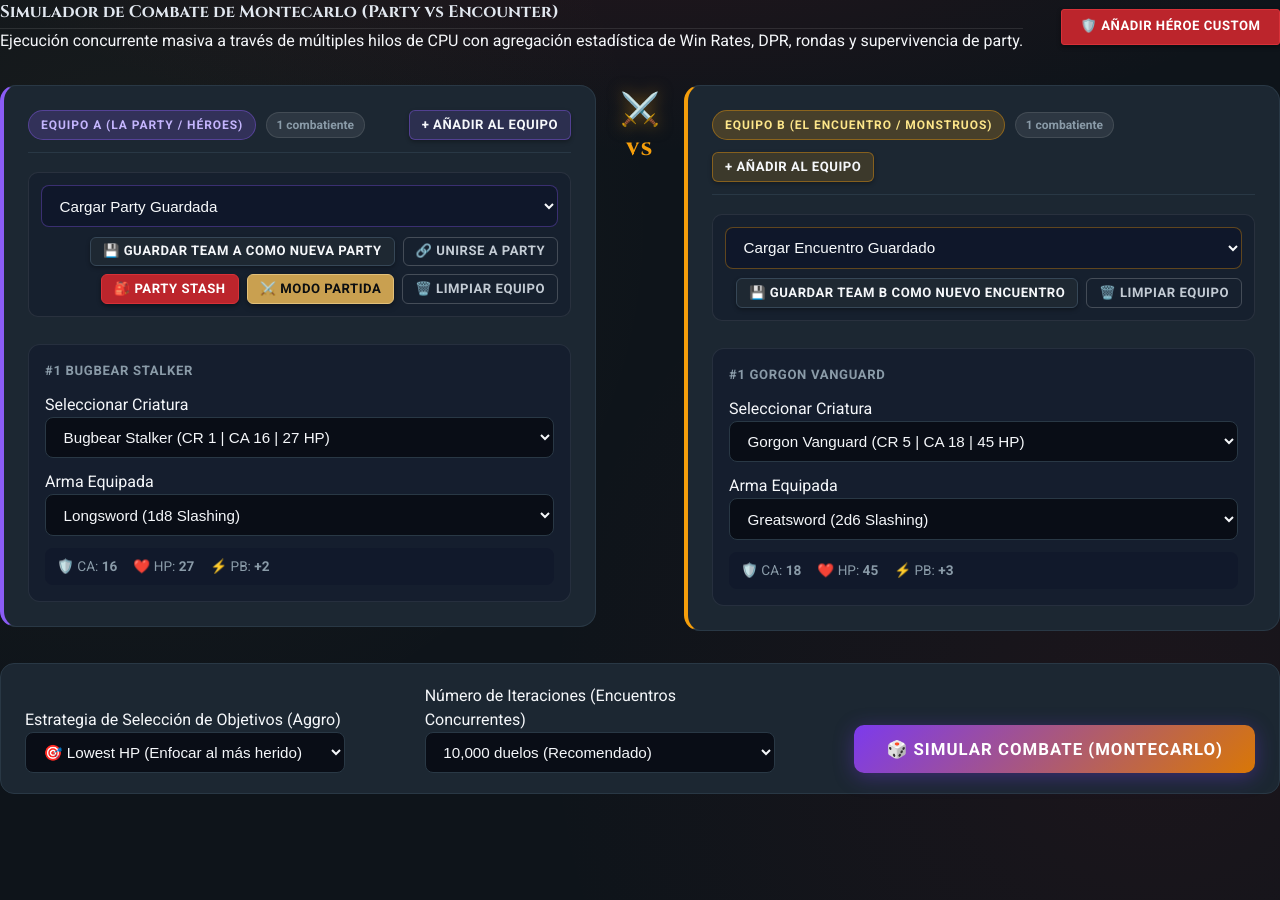
Test: CombatSimulatorView Component Suite (Party vs Encounter) › allows adding and removing members dynamically in teams
The image size is (1280, 900).
Click the button with id "add-member-a-btn" at point(490, 125), box [409,110,571,140]
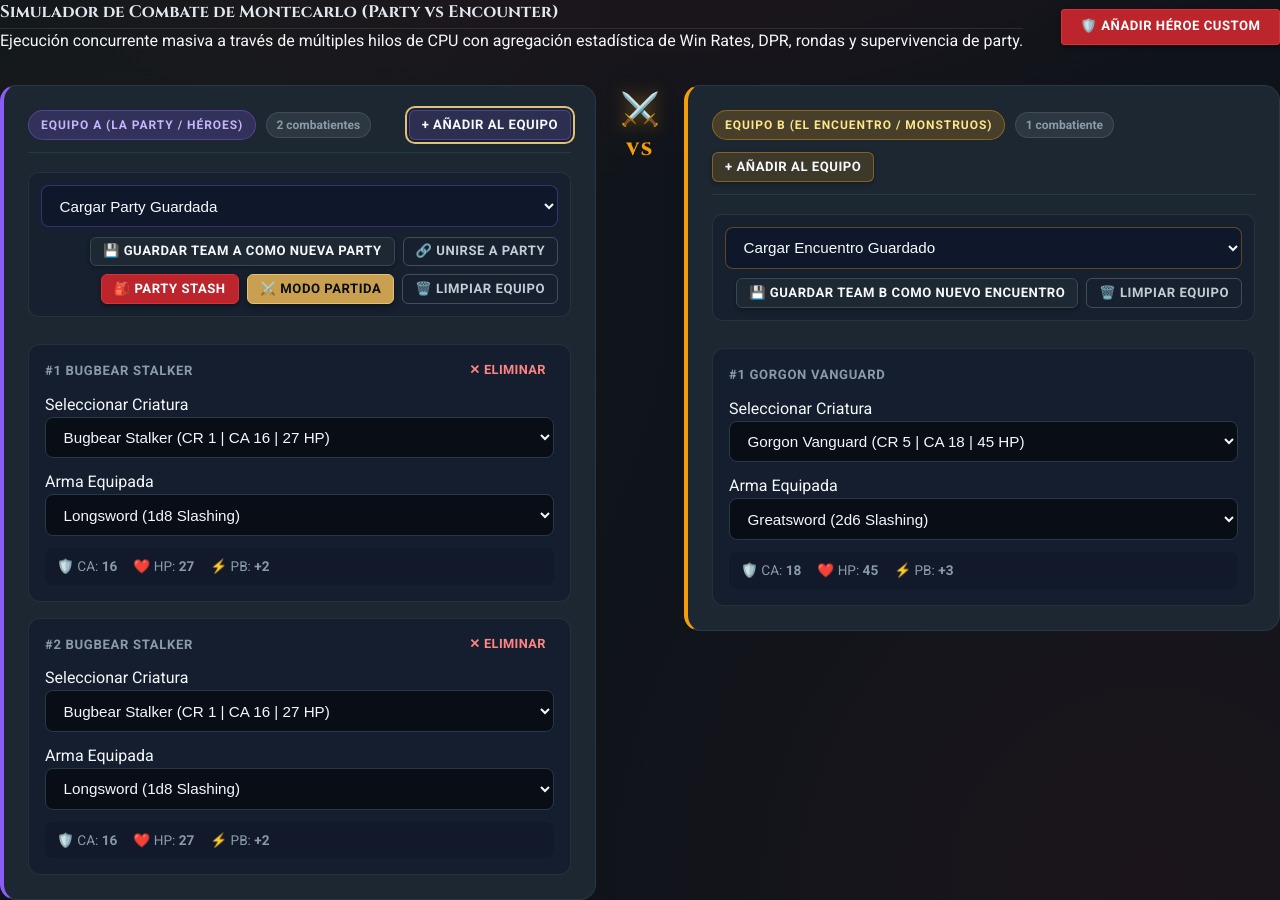
Expected: the dropdown with id "combatant-a-select-1" is shown, [45,690,554,732]
Expected: the button with id "remove-member-a-btn-1" is shown
# Clicking remove should remove member 2
Click the button with id "remove-member-a-btn-1" at point(508, 644), box [461,635,554,654]
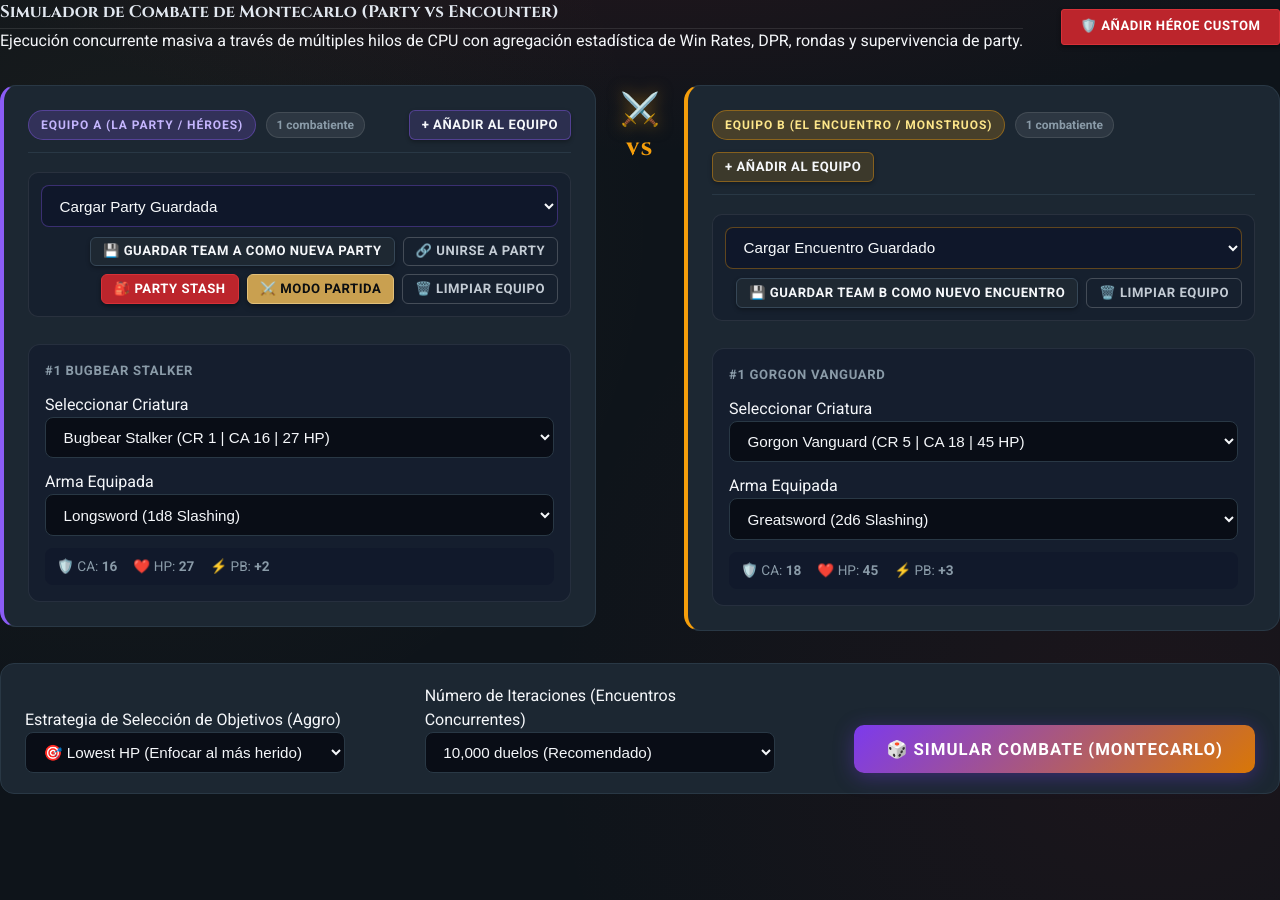
Expected: the label with id "combatant-a-select-1" is gone
